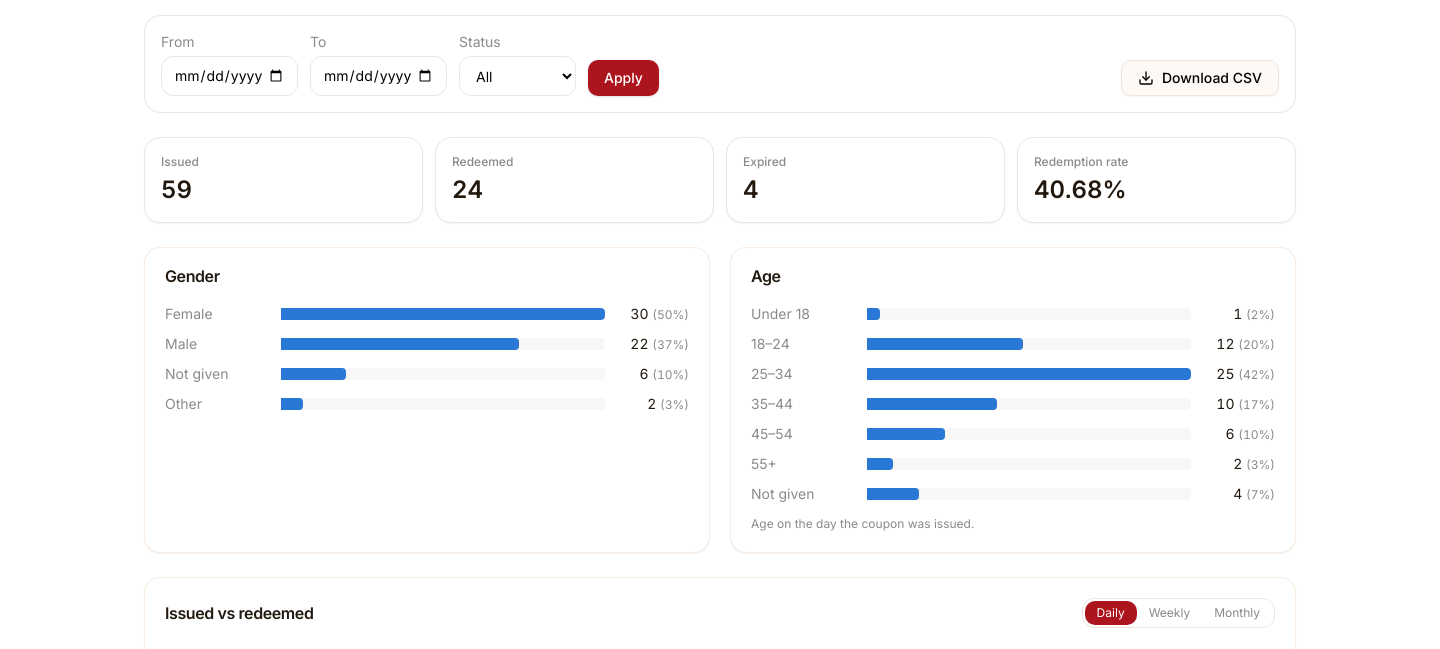
Scenario: Reports › the interval switch re-asks the trend
This screenshot has width=1440, height=649.
Click the button "Monthly" at (1237, 613), box [1202, 601, 1272, 625]
(page scrolled)
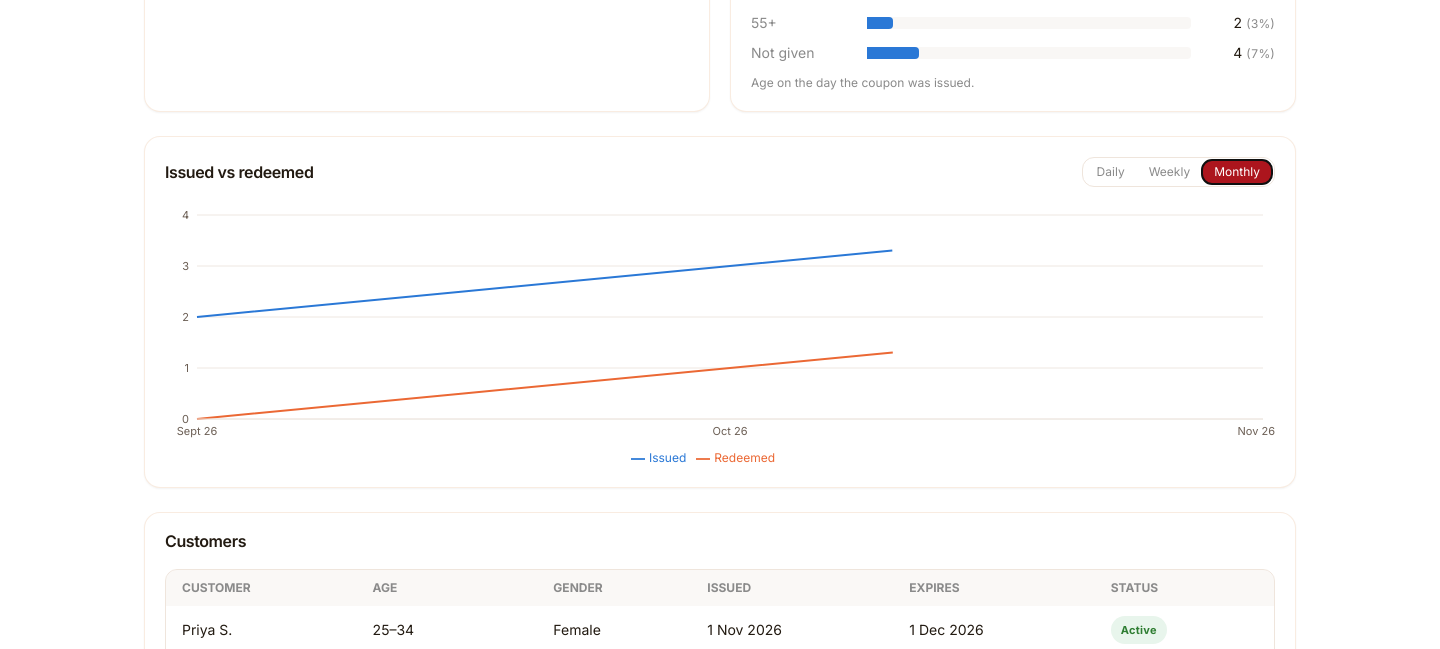
Expected: the row "Sept 26 2 0" is shown, [164, 516, 400, 542]
